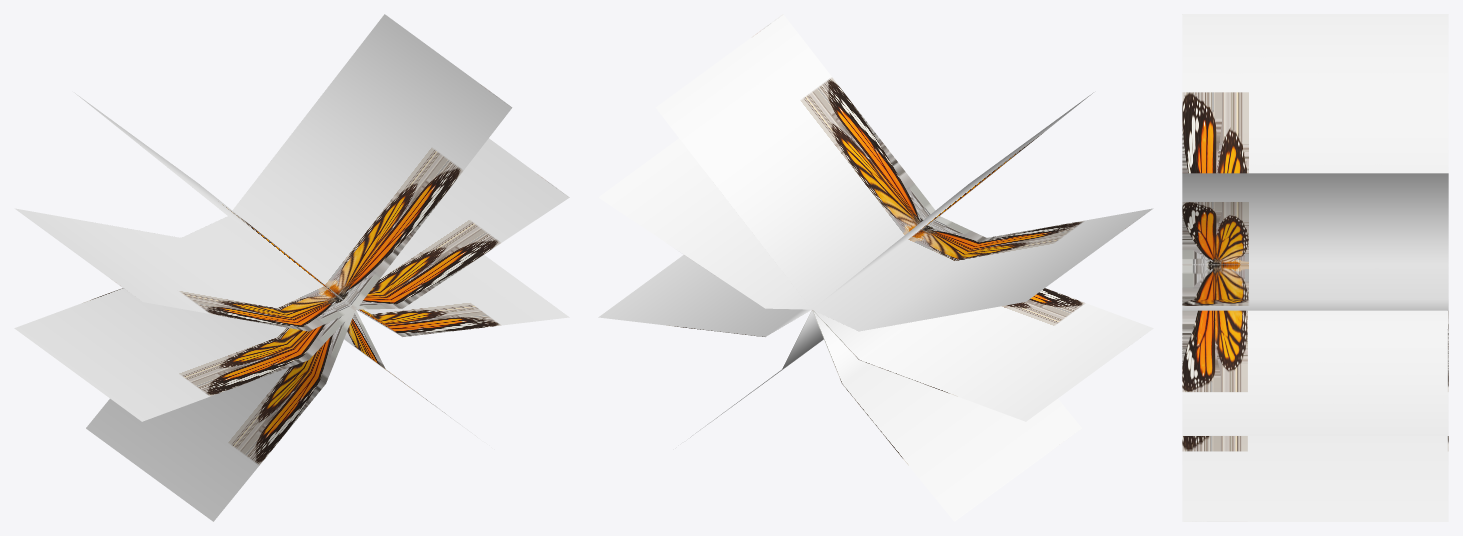
File: GFX_Butterfly.fbx
The picture shows the model from 3 angles, left to right: view 1: azimuth 30°, elevation 25°; view 2: azimuth 150°, elevation 25°; view 3: azimuth 270°, elevation 25°; orthographic projection. The views are drawn at different scales.
Parts seen in each view (by area): view 1: Plane.001; view 2: Plane.001; view 3: Plane.001.
Part boxes in pixels (bbox=[...]): Plane.001: bbox=[14, 14, 569, 521]; Plane.001: bbox=[598, 14, 1153, 521]; Plane.001: bbox=[1182, 14, 1448, 521].
Bounding box in the file's own units: 26.17 × 19.95 × 13.54.
